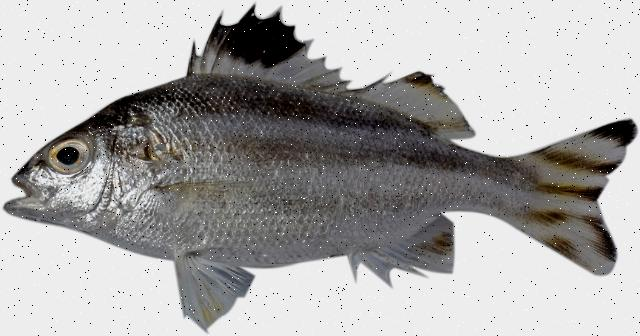Mulut: (0, 159, 42, 231)
Sirip Anal: (349, 212, 458, 288)
Sirip Dada: (151, 172, 261, 218)
Sirip Ekor: (526, 108, 640, 290)
Sirip Perut: (176, 247, 254, 334)
Sirip Punggung: (178, 0, 480, 144)
